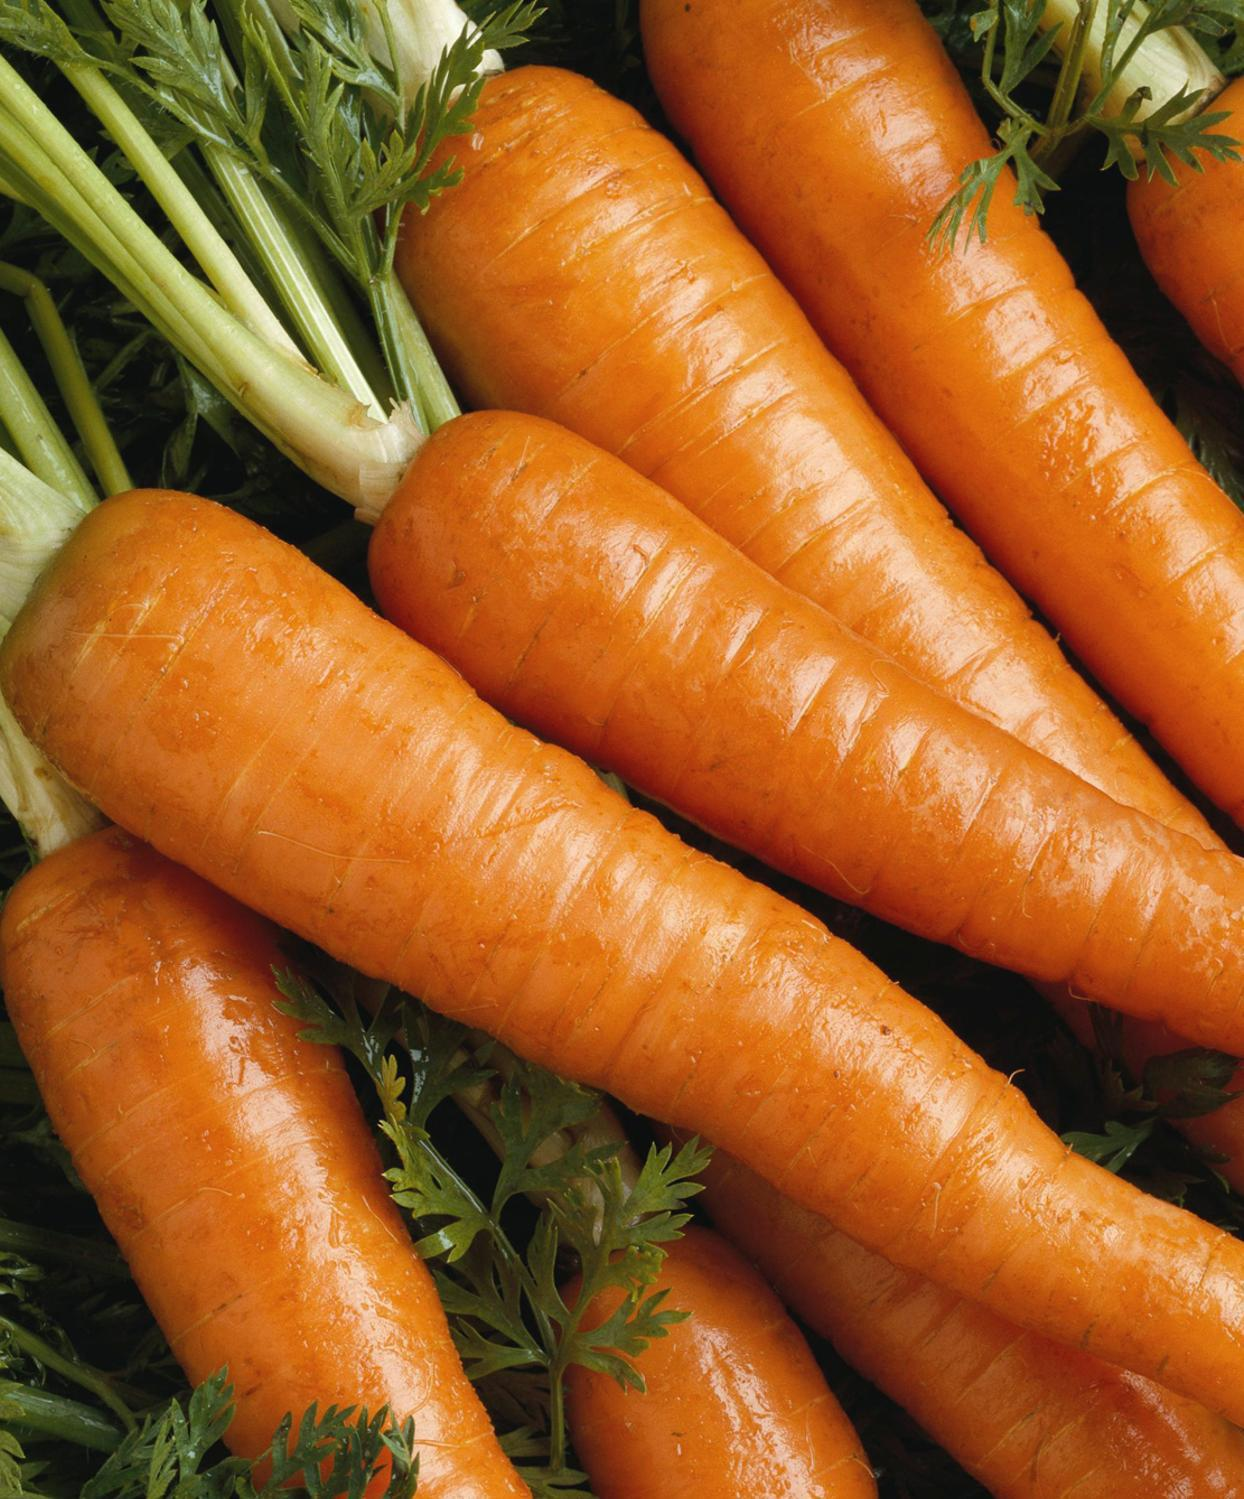carrot: (22, 34, 1244, 1499)
